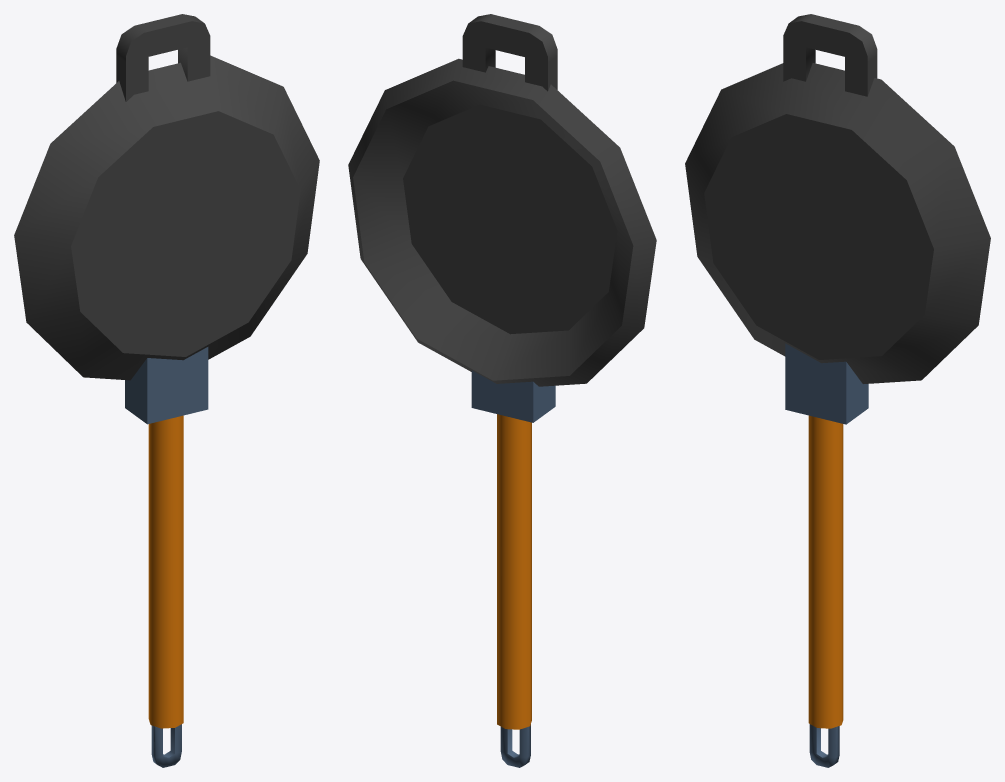
File: Pan.fbx
3 renders of one model, left to right at view 1: azimuth 30°, elevation 25°; view 2: azimuth 150°, elevation 25°; view 3: azimuth 330°, elevation 25°, orthographic.
Parts seen in each view (by area): view 1: Pan; view 2: Pan; view 3: Pan.
Part boxes in pixels (x1,y1,x2,y2): Pan: [14, 14, 319, 767]; Pan: [348, 14, 656, 767]; Pan: [685, 14, 990, 767].
Bounding box in the file's own units: 1.09 × 2.52 × 0.174.
